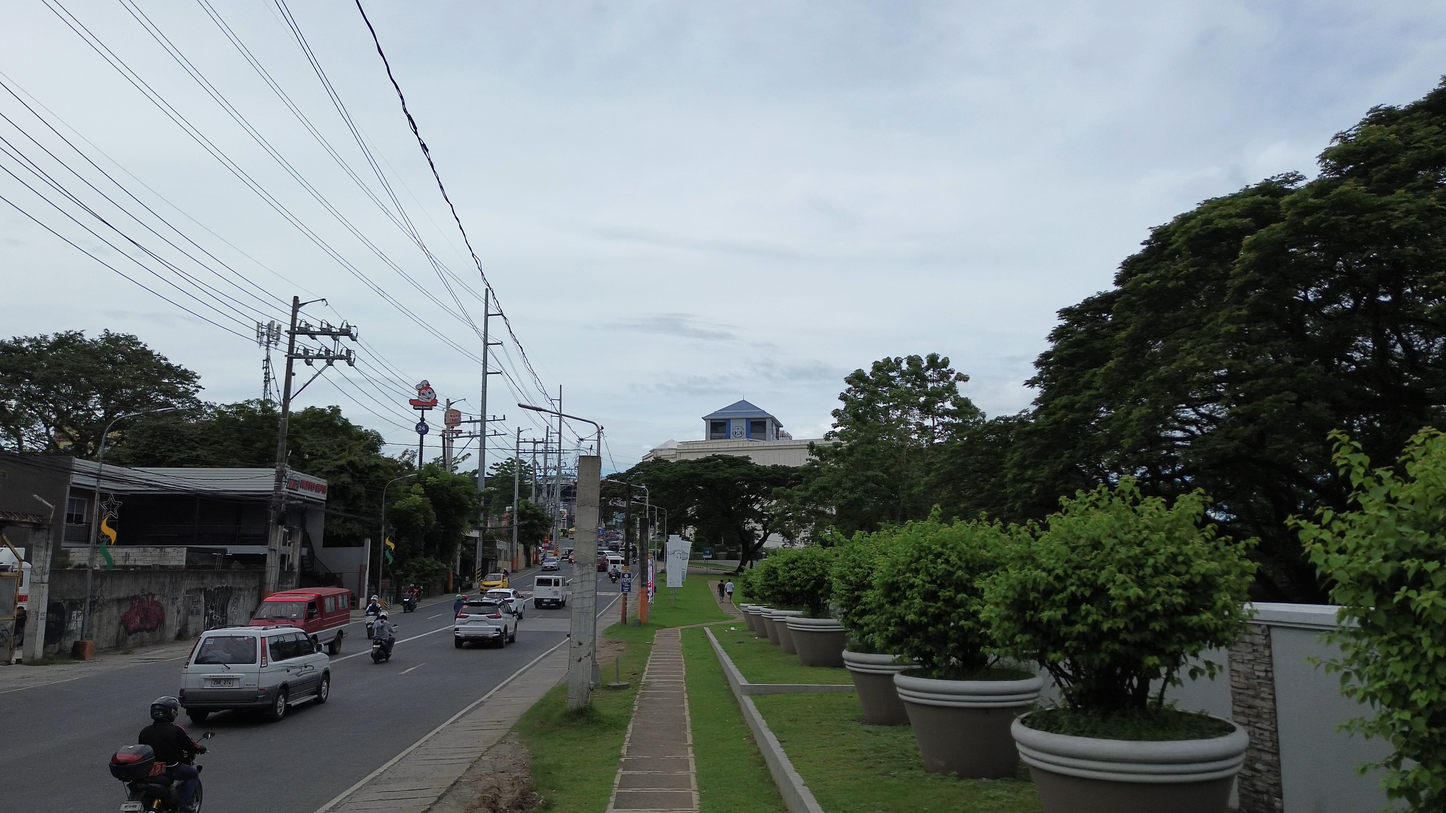car: (479, 572, 509, 591)
motorcycle: (110, 745, 180, 813), (371, 636, 394, 663), (402, 594, 417, 612), (609, 570, 620, 583)
vehicle: (178, 625, 331, 724), (250, 587, 351, 655), (454, 598, 517, 648), (0, 544, 32, 611), (480, 588, 525, 619), (533, 575, 566, 609), (371, 637, 395, 663), (605, 552, 623, 569), (541, 556, 560, 571), (596, 553, 608, 572), (608, 569, 620, 583)
